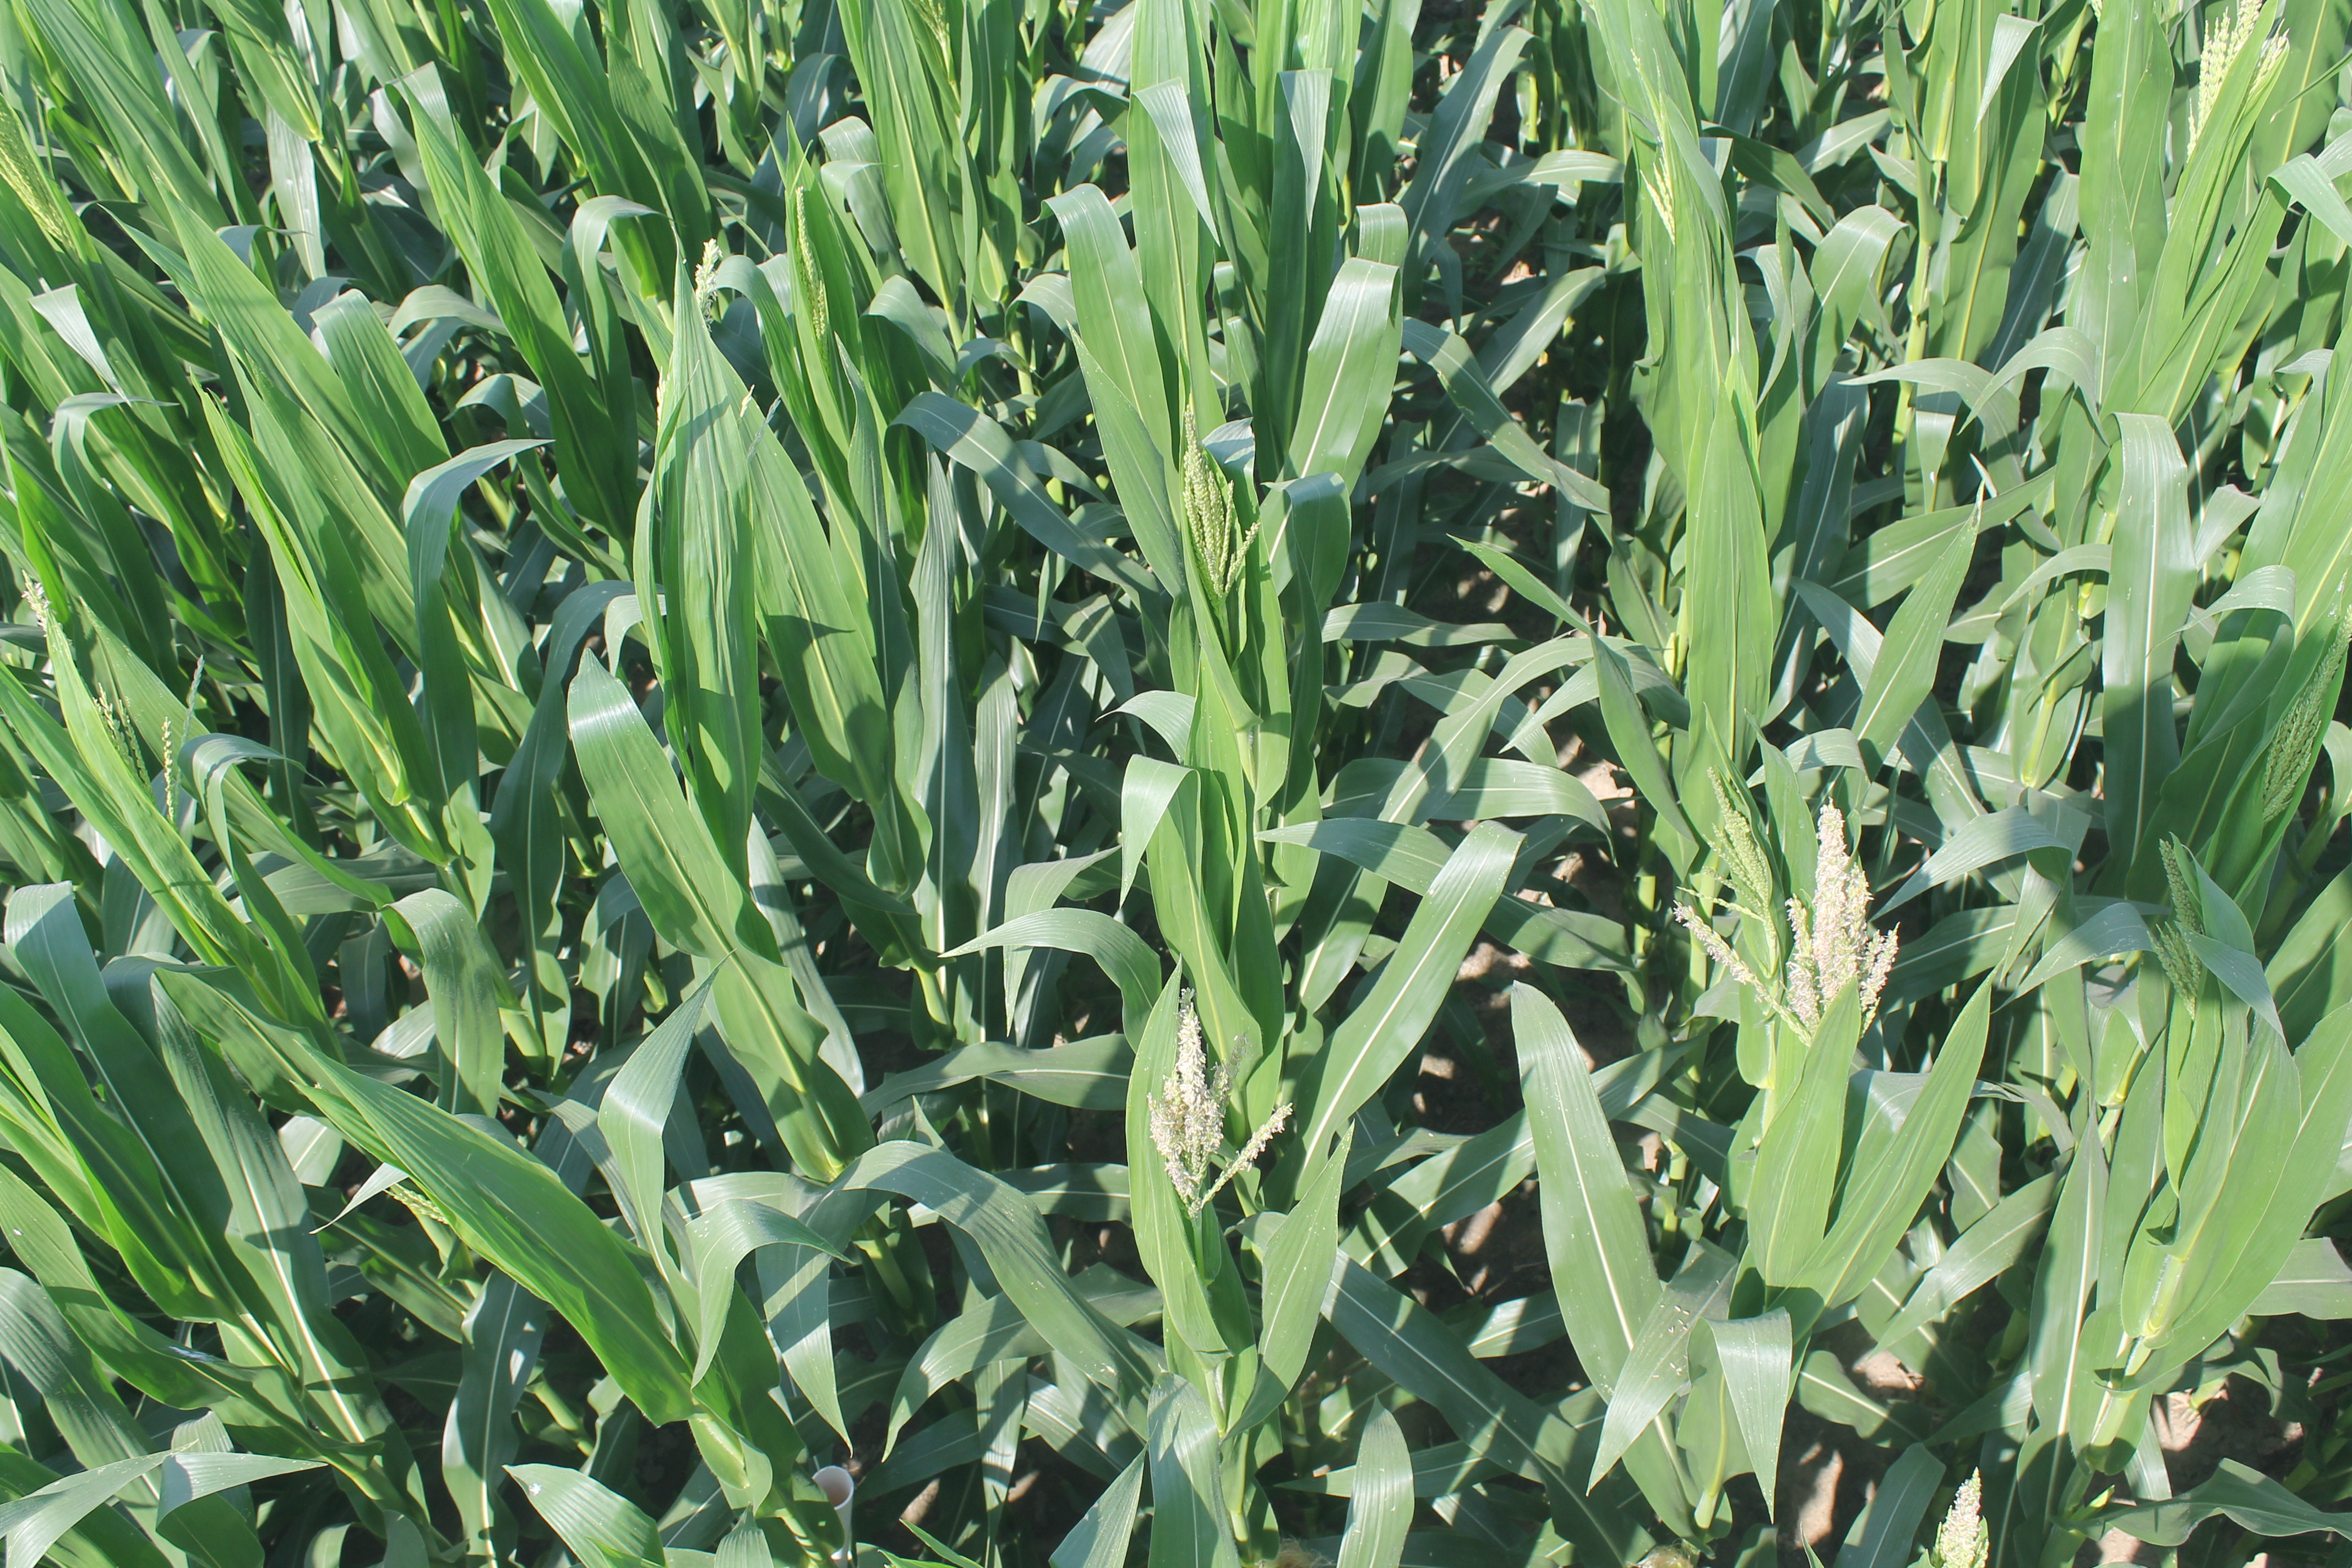Maize: (1155, 1004, 1298, 1209), (1781, 808, 1909, 1027), (2261, 616, 2347, 836), (2151, 829, 2222, 1011), (1171, 408, 1242, 584), (2180, 0, 2266, 145), (1699, 756, 1771, 906)
